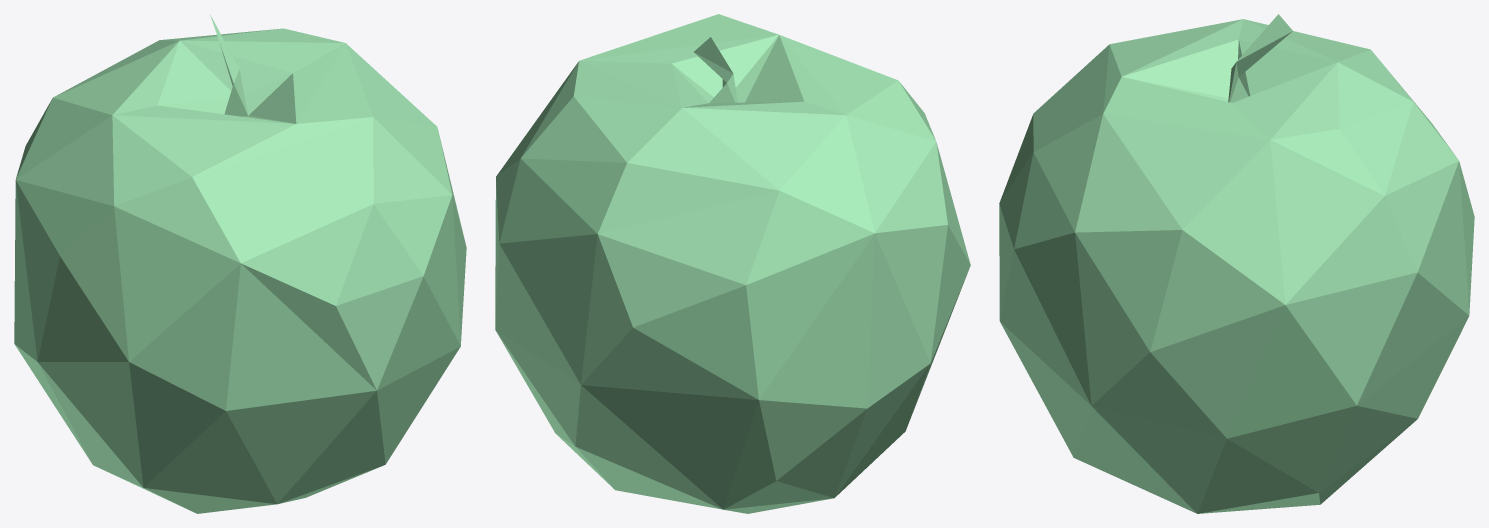
3 renders of one model, left to right at view 1: azimuth 30°, elevation 25°; view 2: azimuth 150°, elevation 25°; view 3: azimuth 270°, elevation 25°, orthographic. The views are drawn at different scales.
Parts seen in each view (by area): view 1: apple; view 2: apple; view 3: apple.
Part boxes in pixels (<box>): apple: <box>14,15,466,513</box>; apple: <box>495,14,970,513</box>; apple: <box>999,14,1474,513</box>.
Bounding box in the file's own units: 0.0931 × 0.1001 × 0.0939.
